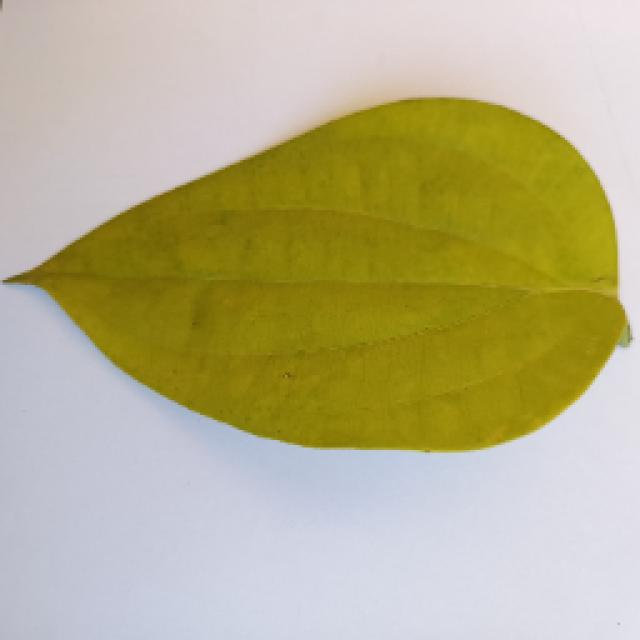slow-decline: (2, 97, 620, 445)
